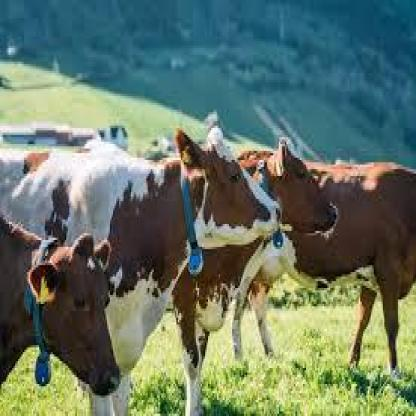cow: (0, 123, 282, 416), (172, 135, 340, 416), (229, 148, 416, 380), (0, 208, 122, 414), (98, 126, 130, 148)
